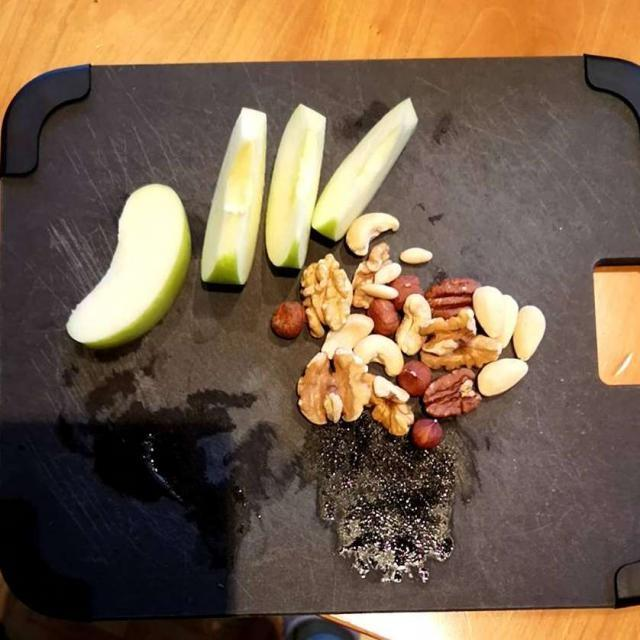apple: (53, 102, 418, 354)
mixed-nuts: (246, 226, 542, 456)
